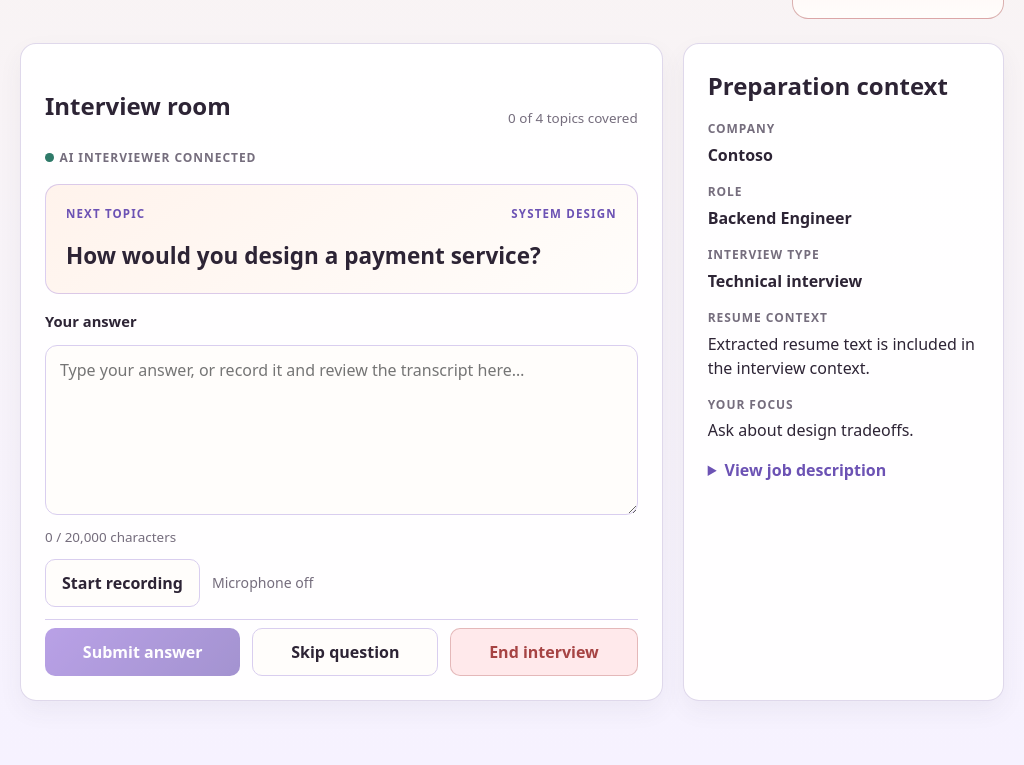
Test: MockInterview › explains microphone permission denial and keeps typed answers available
(page scrolled)
Expected: the heading "How would you design a payment service?" is shown, [66, 238, 617, 273]
Click the button "Start recording".
click(122, 583)  # box [45, 559, 200, 607]
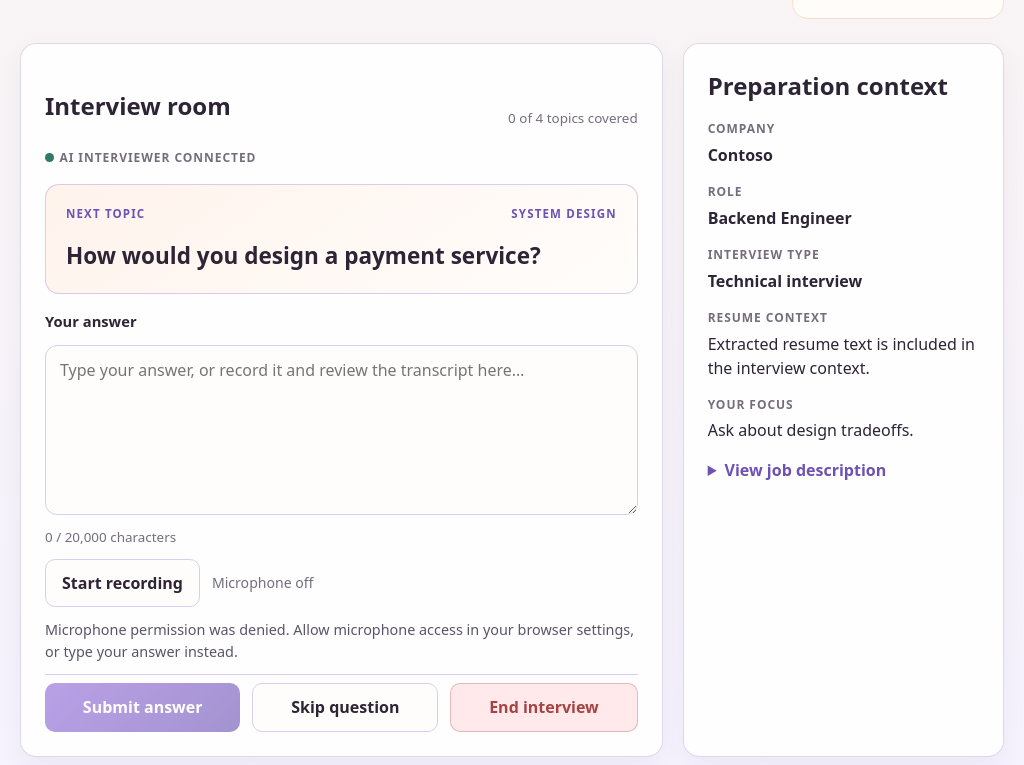
Expected: the text box labelled "Your answer" is shown, [45, 344, 638, 514]
Expected: the text "Microphone permission was denied" is shown, [45, 620, 634, 661]
